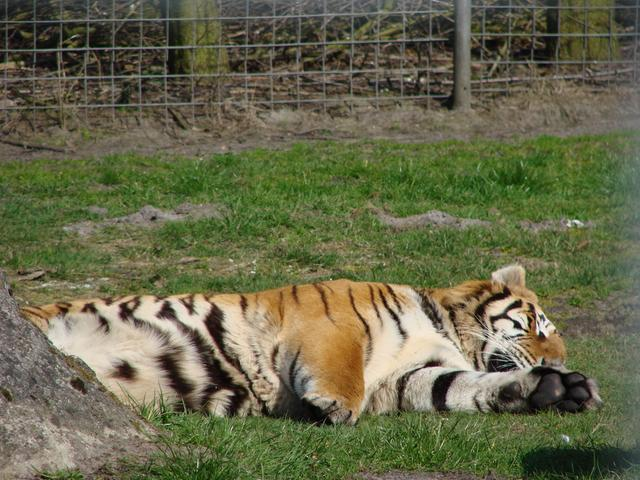tiger: (29, 241, 598, 448)
